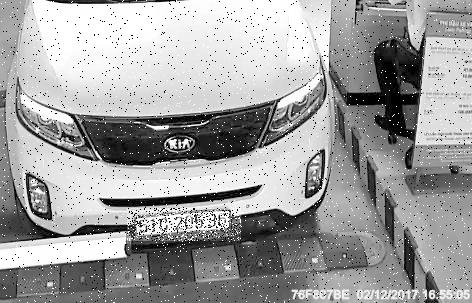License-plate: (128, 209, 242, 242)
